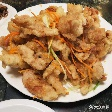guobaorou: (1, 3, 109, 99)
